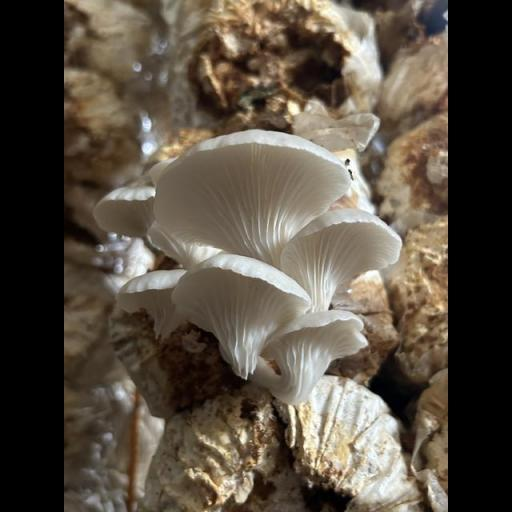White Oyster Mushroom: (97, 129, 399, 397)
